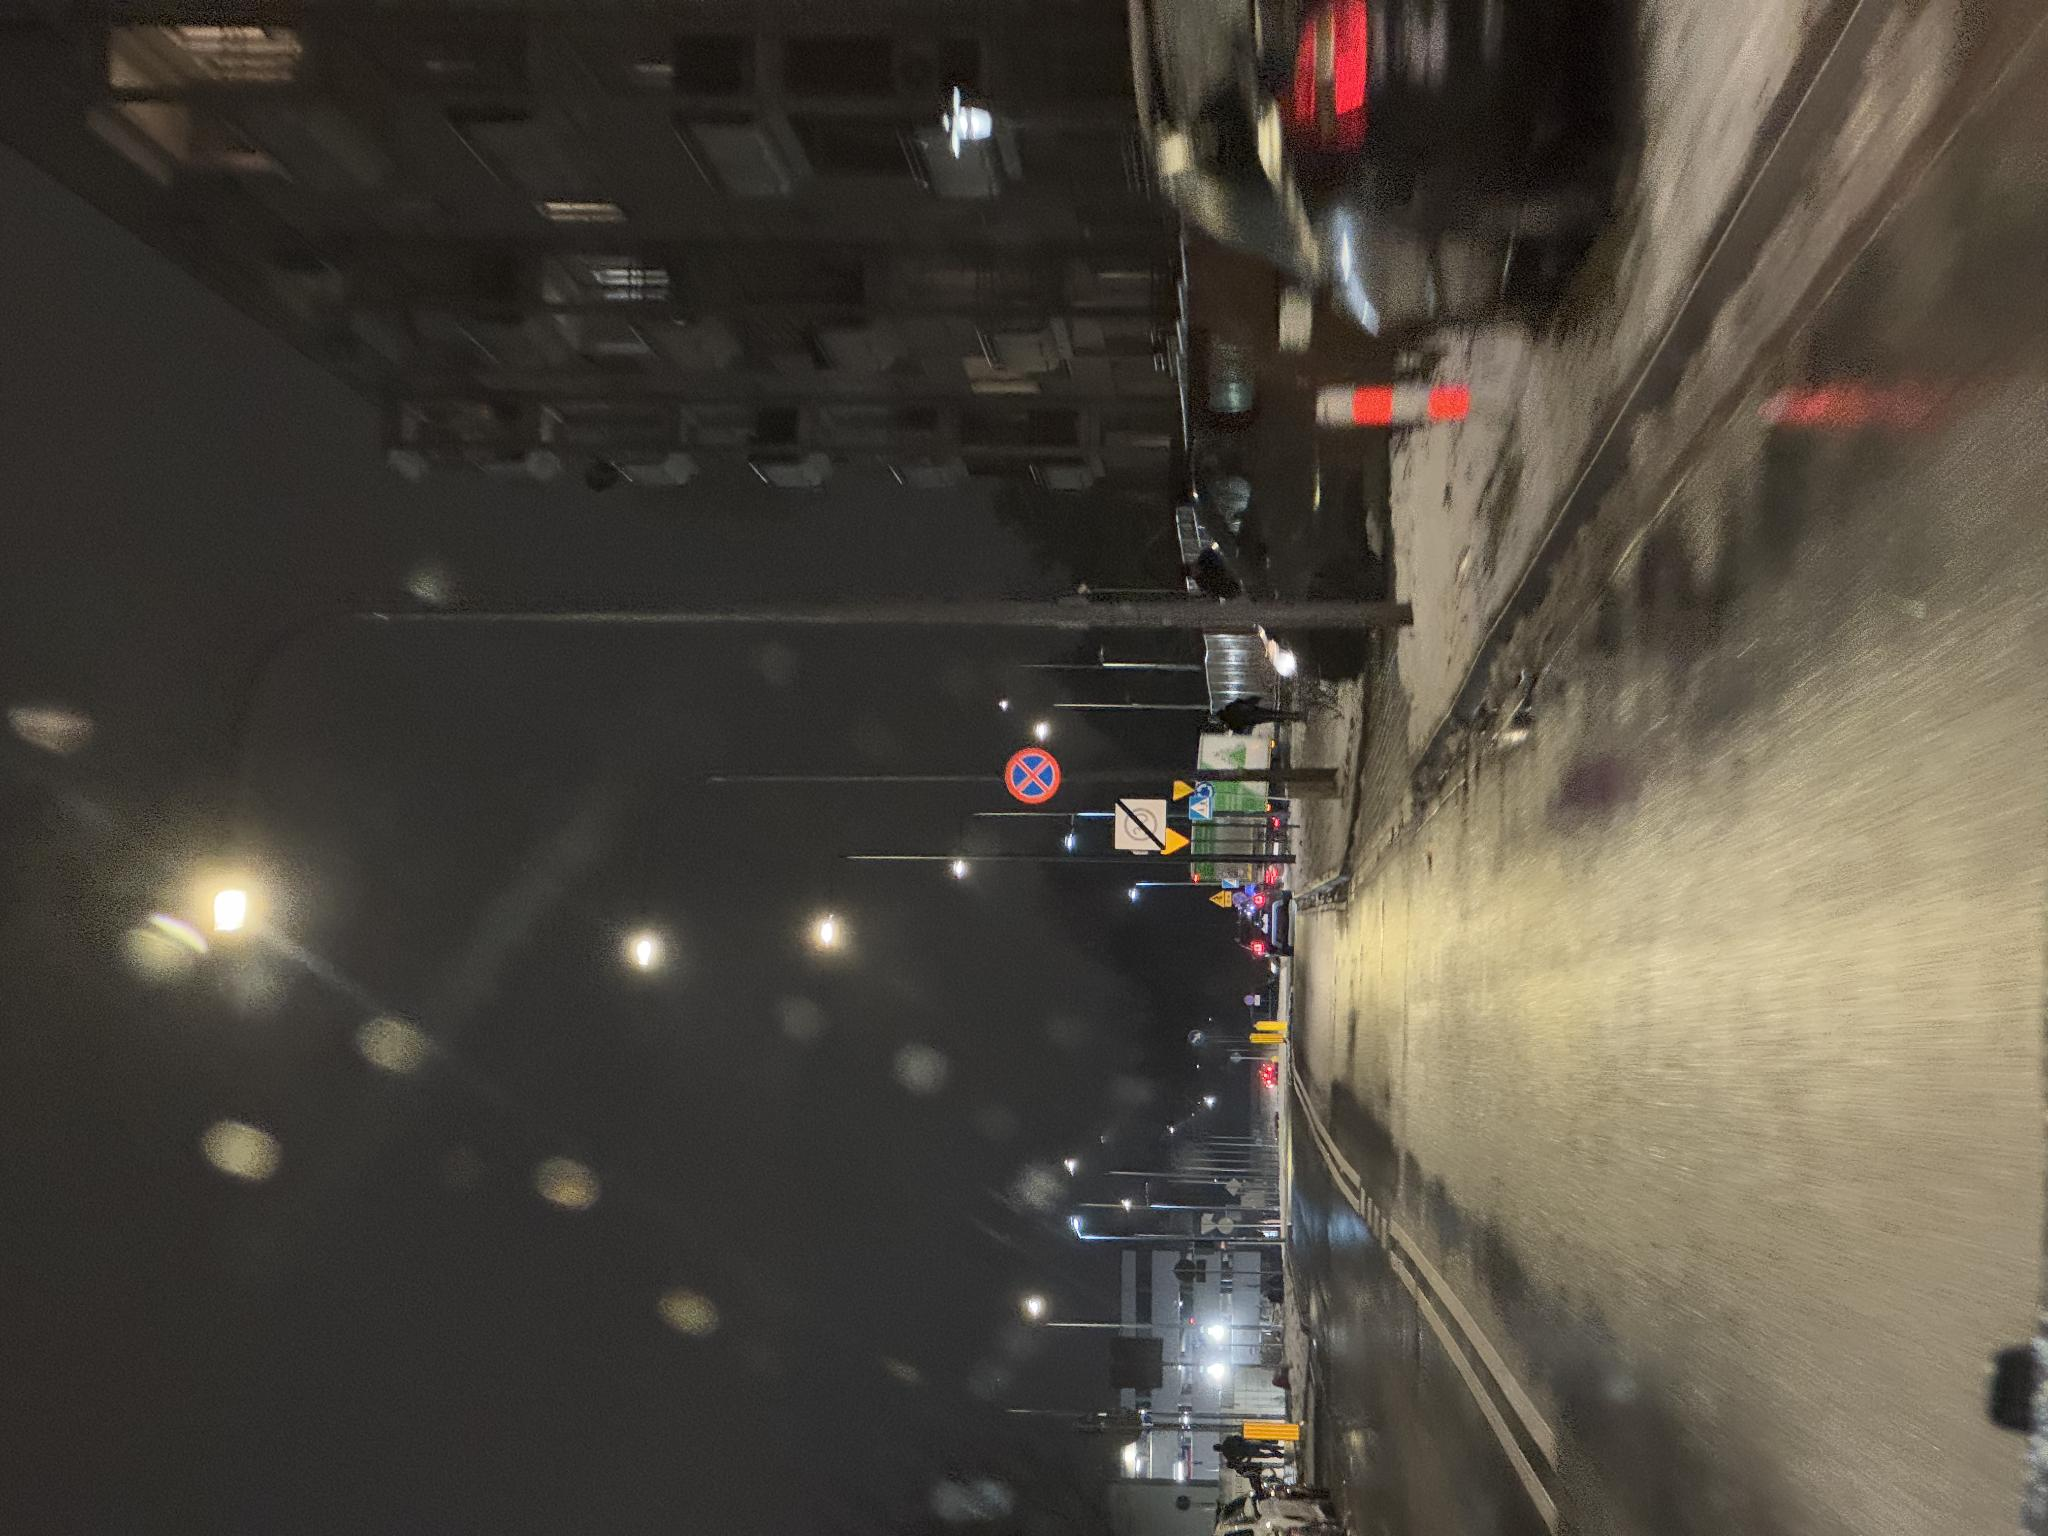information: (718, 1189, 739, 1213), (648, 1221, 658, 1241)
mandatory: (739, 1196, 755, 1215), (490, 1187, 506, 1204)
other: (629, 1226, 645, 1233), (531, 1255, 540, 1260)
prohibitory: (732, 1005, 790, 1062), (690, 1118, 732, 1163), (632, 1233, 643, 1244), (531, 1244, 540, 1254)
warning: (681, 1162, 711, 1191), (735, 1171, 758, 1194), (629, 1208, 645, 1225)
